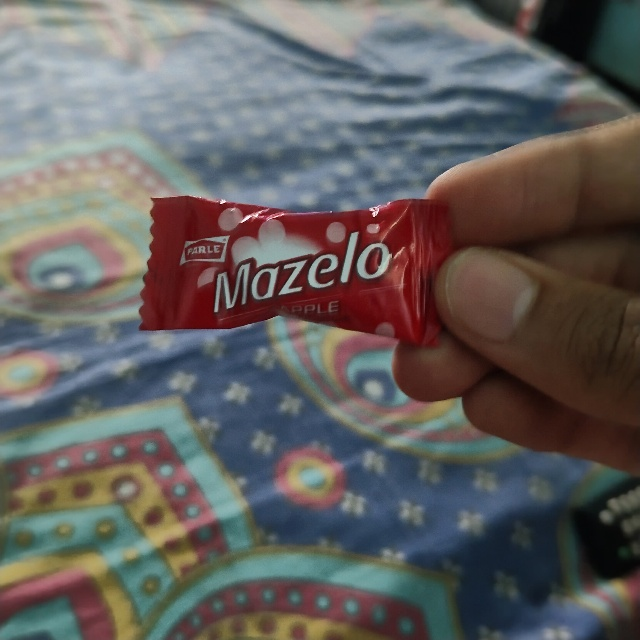Mazelo: (142, 190, 450, 332)
